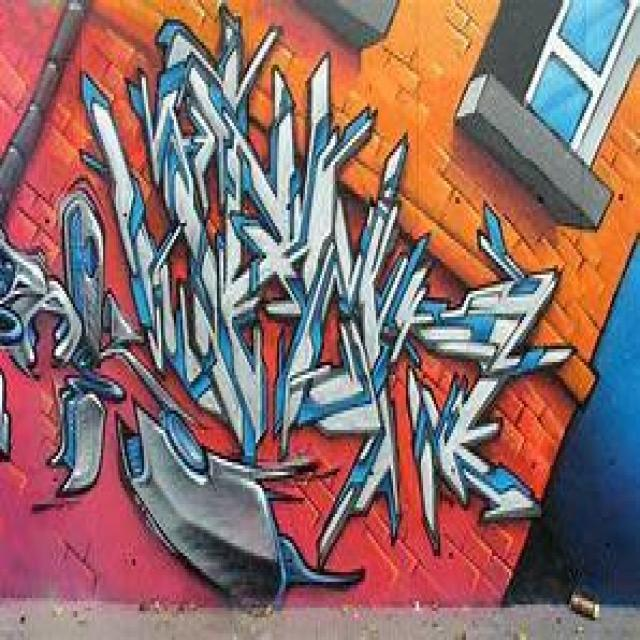nonspitting: (0, 3, 578, 609)
